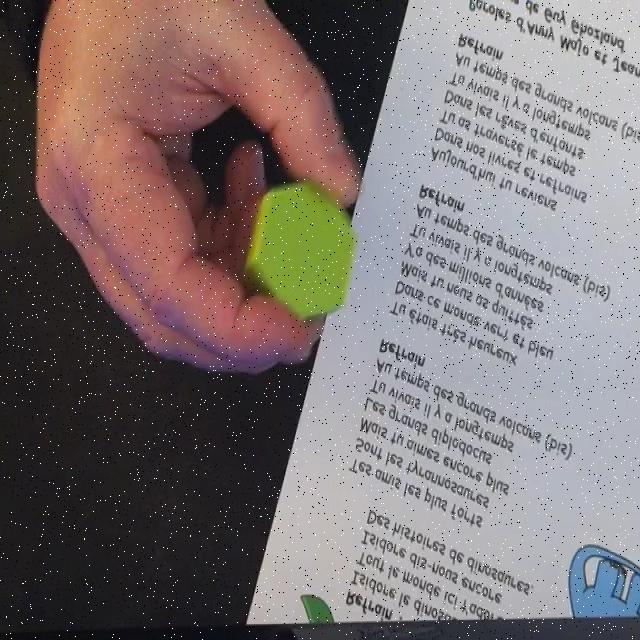hexagon: (250, 185, 352, 321)
